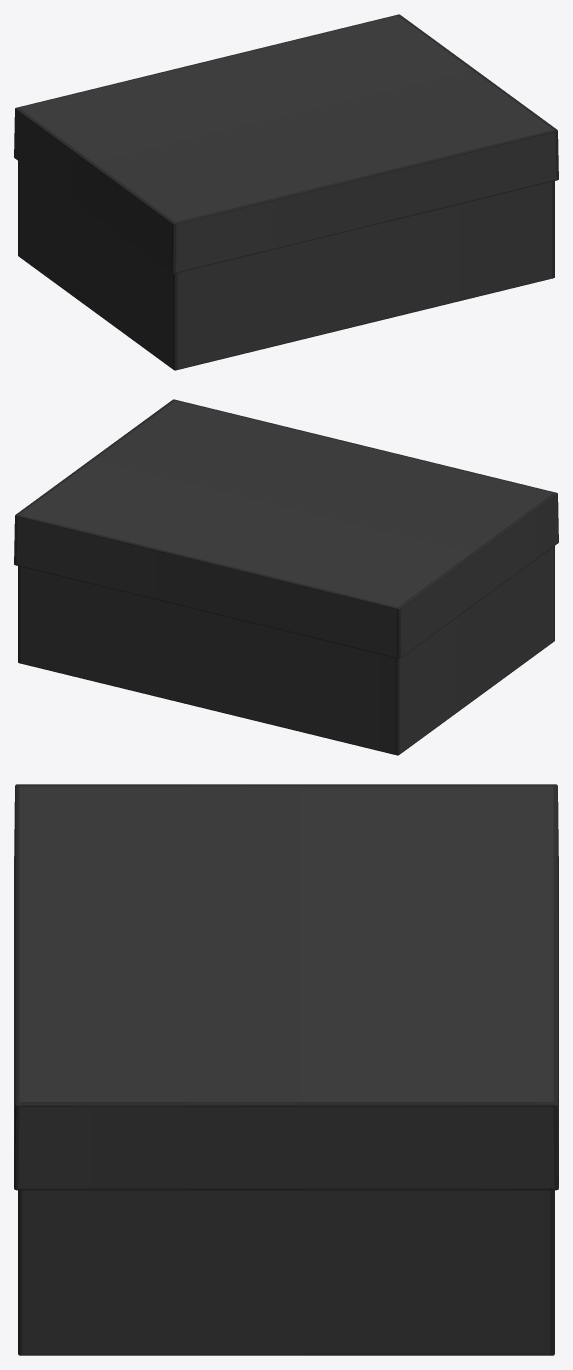
File: Black Shoebox.fbx
3 views of the same model, one above another, from view 1: azimuth 30°, elevation 25°; view 2: azimuth 150°, elevation 25°; view 3: azimuth 270°, elevation 25° (orthographic). The views are drawn at different scales.
Visible parts, largest first — view 1: Black Shoebox; view 2: Black Shoebox; view 3: Black Shoebox.
Part boxes in pixels (x1,y1,x2,y2): Black Shoebox: (14,14,558,370); Black Shoebox: (14,399,558,755); Black Shoebox: (14,784,558,1355).
Size of the model in its own units: 95.2 by 186 by 260.
Materials: 1 (1 with a texture image).
